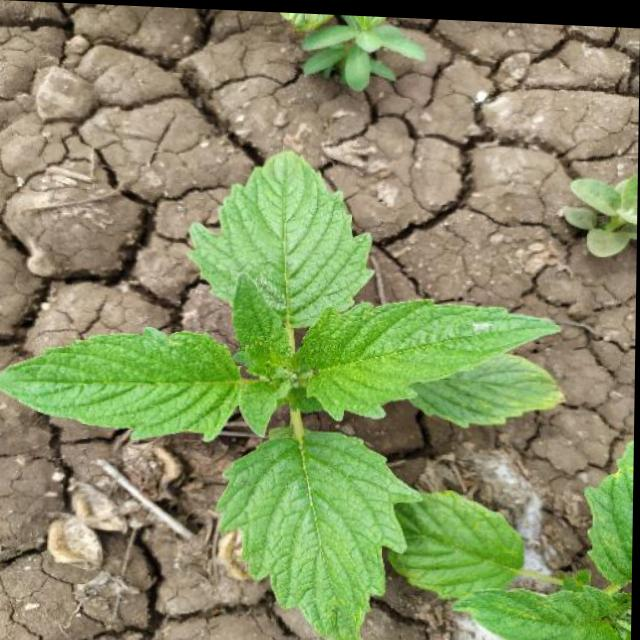crop: (12, 141, 573, 640)
